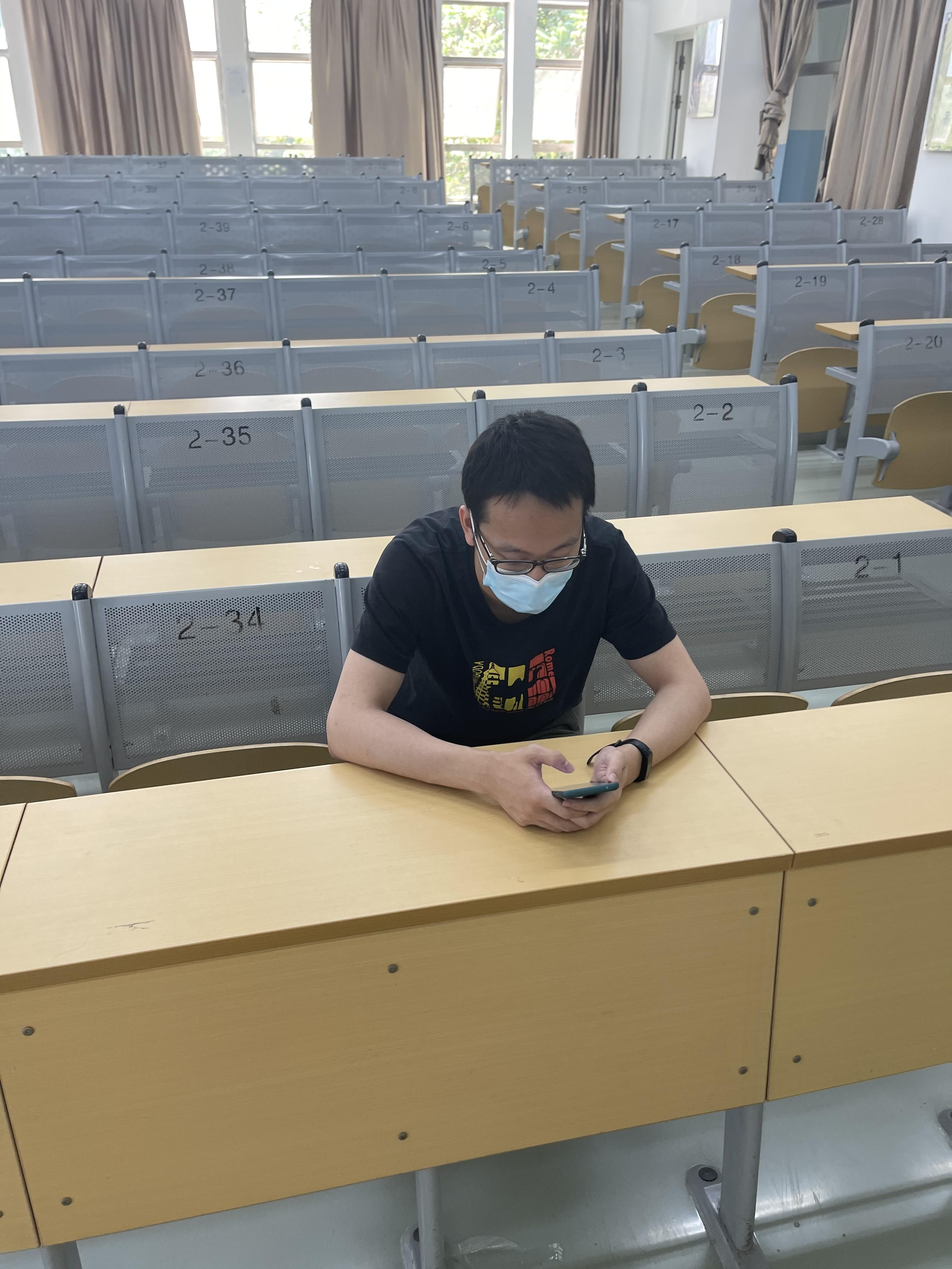phone: (327, 411, 714, 836)
